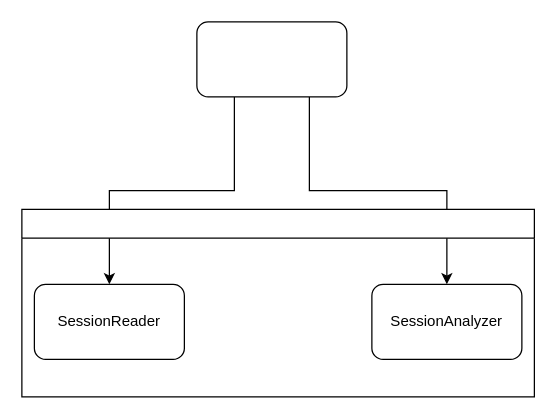
This 556x419 diagram has some shape labels left out. The box of each missing label's shape, as (x1, y1, x2, y2) in pixels:
CyclingIntervals: (196, 21, 347, 97)
CyclingTrainerCore: (21, 208, 534, 397)
